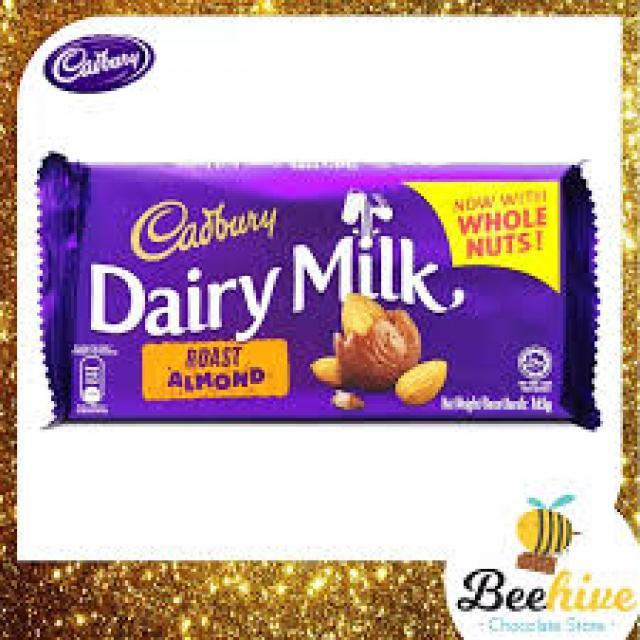cadbury_chocolate: (42, 153, 575, 432)
